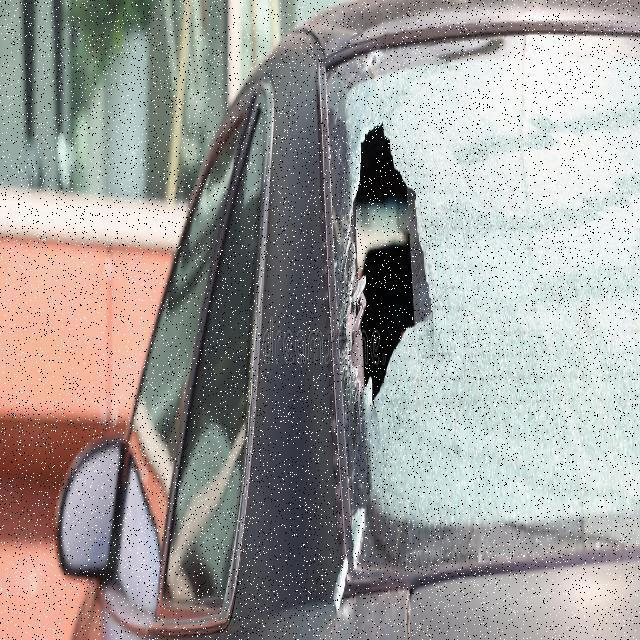Rear-windscreen-Damage: (290, 23, 640, 639)
